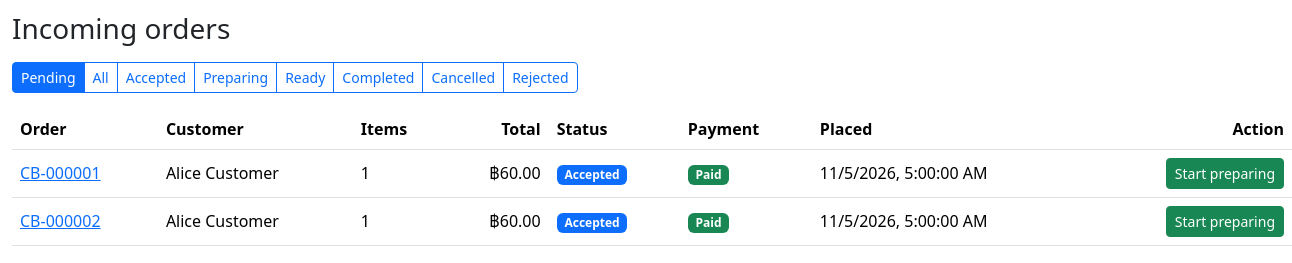
Test: OperatorOrders fulfilment actions (AC-86) › TEST-86: Start preparing shows Updating… while pending, then the row shows the new status
This screenshot has width=1292, height=263.
Later steps or results of the test are not shown.
Expected: the link "CB-000001" is shown, [20, 162, 101, 184]
Click the button "All" at (101, 77), box [84, 62, 118, 93]
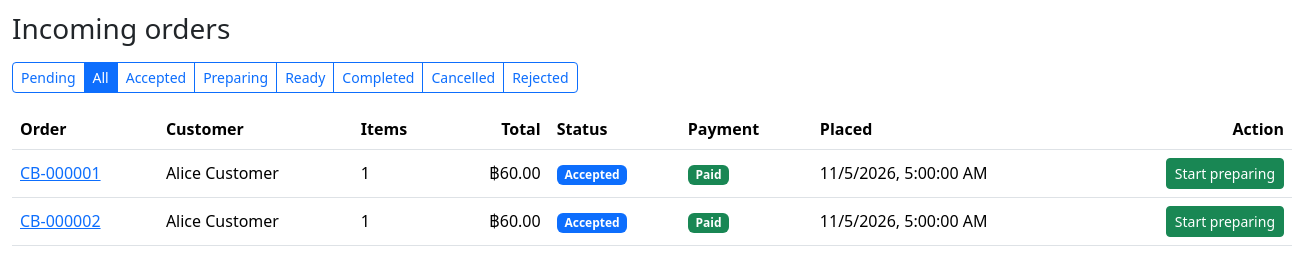
Click the button "Start preparing" in the row of "CB-000001" at (1225, 173), box [1166, 158, 1284, 189]
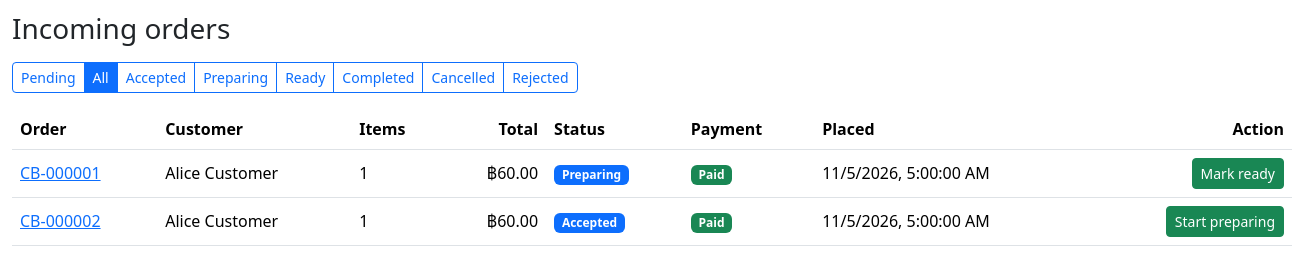
Expected: the button "Start preparing" is enabled, [1166, 206, 1284, 237]
Expected: the text "Preparing" is shown, [554, 165, 629, 185]
Expected: the buttons read "Mark ready", in this order, [1192, 158, 1284, 189]
